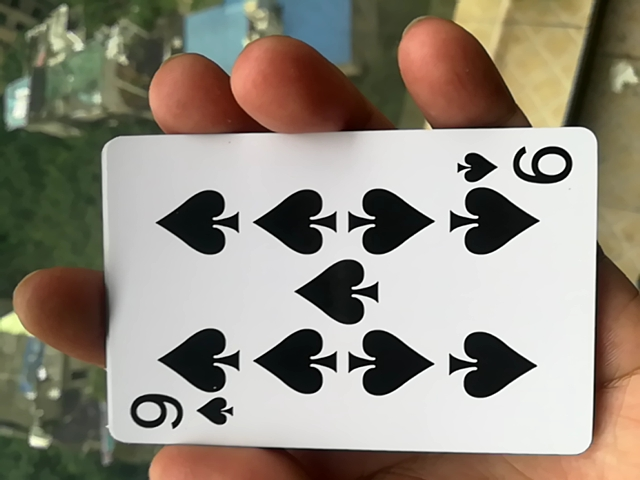ht 9: (92, 129, 592, 455)
